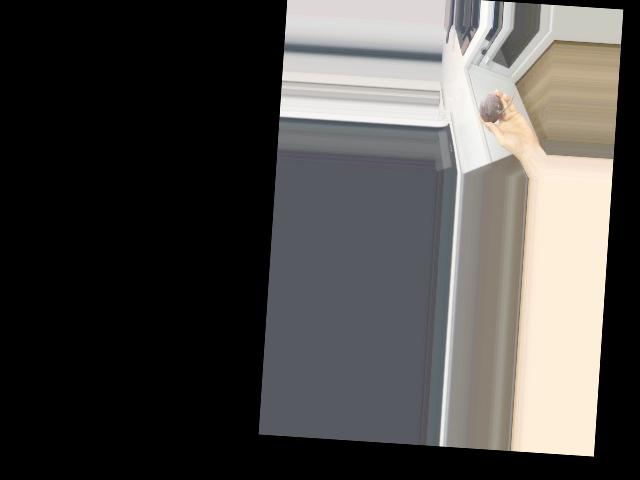beet: (478, 89, 515, 123)
